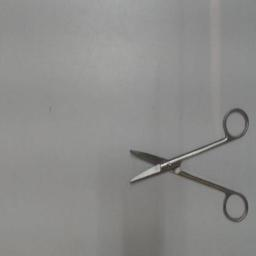Curved Mayo Scissors: (127, 103, 253, 227)
